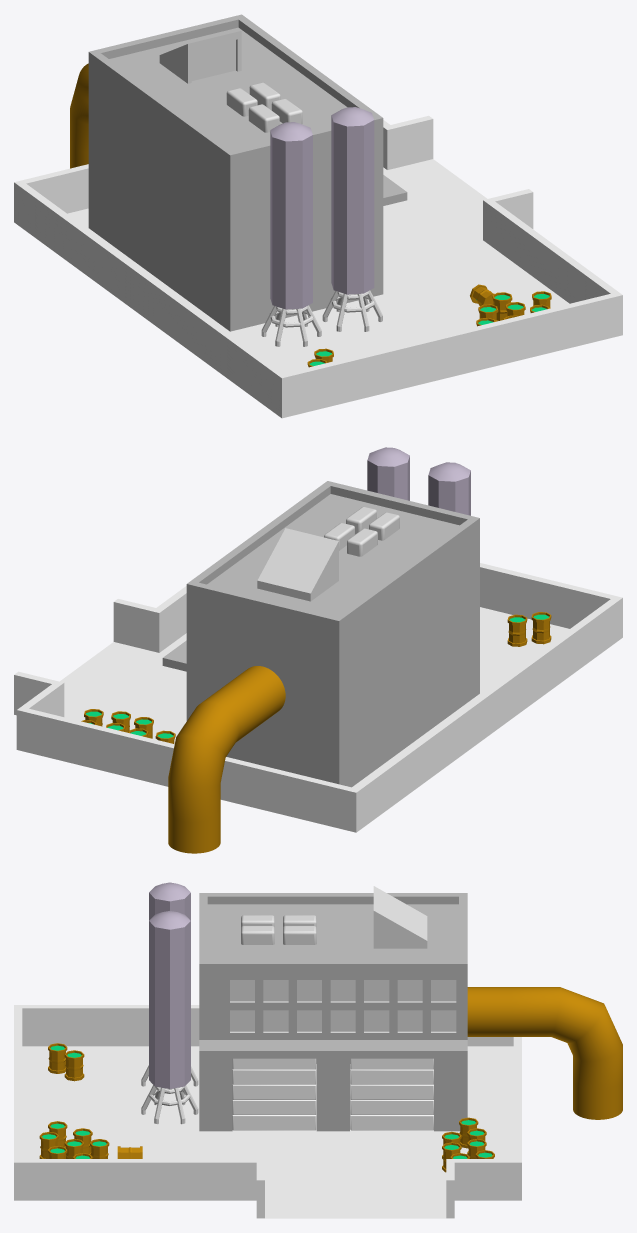
Rendered from Factory.fbx.
3 renders of one model, top to bottom at view 1: azimuth 30°, elevation 25°; view 2: azimuth 150°, elevation 25°; view 3: azimuth 270°, elevation 25°, orthographic. The views are drawn at different scales.
Parts seen in each view (by area): view 1: Frence, Top_Floor, Floor, Oil_Tanks, Walls, Roof_Exit, Overhang, AC, Barrels, Ceiling, Tube; view 2: Top_Floor, Frence, Walls, Floor, Tube, Roof_Exit, Oil_Tanks, Overhang, Barrels, AC, Ceiling; view 3: Floor, Top_Floor, Frence, Tube, Oil_Tanks, Walls, Overhang, Barrels, Roof_Exit, AC, Cube_3_2, Cube_0_2 (+9 smaller).
Part boxes in pixels (left/top/right/bottom): Frence: left=14, top=115, right=622, bottom=418; Top_Floor: left=88, top=14, right=383, bottom=235; Floor: left=14, top=159, right=620, bottom=418; Oil_Tanks: left=261, top=107, right=382, bottom=346; Walls: left=88, top=148, right=383, bottom=331; Roof_Exit: left=159, top=31, right=241, bottom=83; Overhang: left=88, top=132, right=407, bottom=243; AC: left=226, top=82, right=302, bottom=132; Barrels: left=307, top=284, right=551, bottom=367; Ceiling: left=88, top=140, right=383, bottom=251; Tube: left=70, top=63, right=88, bottom=168; Top_Floor: left=186, top=481, right=479, bottom=700; Frence: left=14, top=563, right=622, bottom=832; Walls: left=186, top=614, right=479, bottom=787; Floor: left=15, top=607, right=620, bottom=832; Tube: left=168, top=666, right=285, bottom=853; Roof_Exit: left=257, top=528, right=338, bottom=601; Oil_Tanks: left=367, top=447, right=470, bottom=515; Overhang: left=162, top=598, right=479, bottom=708; Barrels: left=81, top=612, right=551, bottom=743; AC: left=324, top=506, right=399, bottom=556; Ceiling: left=186, top=606, right=479, bottom=716; Floor: left=22, top=1046, right=513, bottom=1218; Top_Floor: left=199, top=893, right=467, bottom=1039; Frence: left=14, top=1005, right=521, bottom=1218; Tube: left=467, top=987, right=622, bottom=1119; Oil_Tanks: left=141, top=882, right=198, bottom=1124; Walls: left=199, top=1058, right=467, bottom=1131; Overhang: left=199, top=1040, right=467, bottom=1058; Barrels: left=39, top=1043, right=494, bottom=1172; Roof_Exit: left=373, top=886, right=427, bottom=948; AC: left=241, top=915, right=316, bottom=944; Cube_3_2: left=232, top=1069, right=316, bottom=1084; Cube_0_2: left=232, top=1115, right=316, bottom=1130.
Size of the model in its own units: 49540 by 27788 by 72624.
